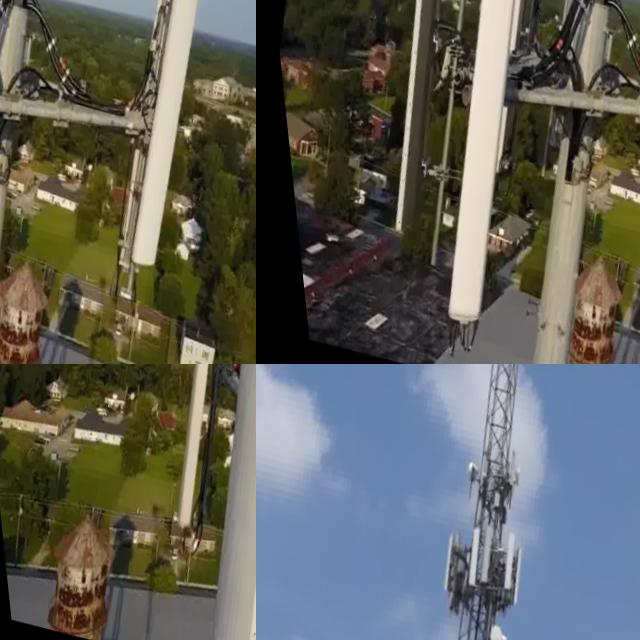GSM Antenna: (381, 0, 577, 333), (78, 0, 247, 284), (331, 0, 514, 247), (130, 364, 256, 640), (123, 364, 256, 538), (456, 0, 562, 179), (447, 519, 480, 597), (483, 525, 516, 595), (462, 518, 494, 585), (427, 526, 451, 584)
Microwave Antenna: (453, 458, 477, 488), (473, 618, 496, 640), (502, 463, 516, 486), (484, 629, 502, 640)
